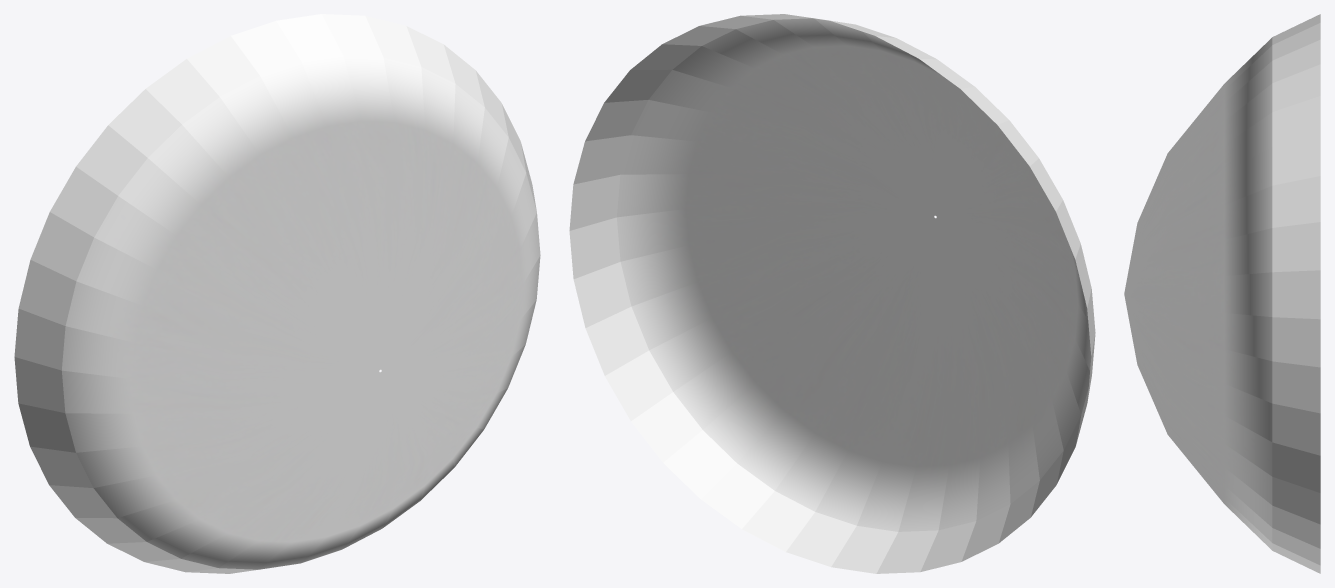
The model's file is pian_78.FBX.
3 views of the same model, side by side, from view 1: azimuth 30°, elevation 25°; view 2: azimuth 150°, elevation 25°; view 3: azimuth 270°, elevation 25° (orthographic). The views are drawn at different scales.
Parts seen in each view (by area): view 1: Plane001; view 2: Plane001; view 3: Plane001.
Part boxes in pixels (x1,y1,x2,y2): Plane001: [14, 14, 540, 573]; Plane001: [569, 14, 1095, 573]; Plane001: [1124, 14, 1320, 573].
Size of the model in its own units: 71.95 by 71.95 by 25.11.
